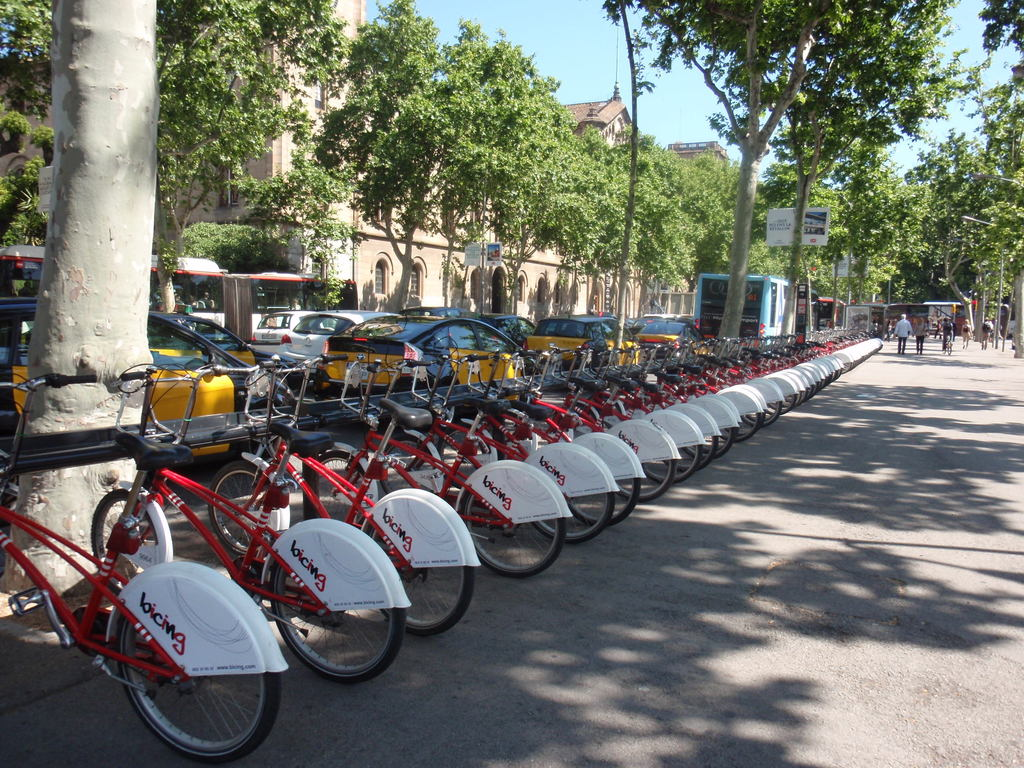Bicycle: (0, 378, 291, 765), (110, 364, 407, 687), (209, 355, 472, 648), (334, 351, 570, 577), (450, 339, 618, 533), (542, 343, 679, 495), (519, 348, 635, 517), (611, 343, 722, 456), (613, 350, 705, 472), (650, 344, 741, 449), (698, 327, 776, 428), (776, 330, 827, 403), (831, 330, 858, 377), (857, 327, 883, 356), (942, 336, 949, 350)
